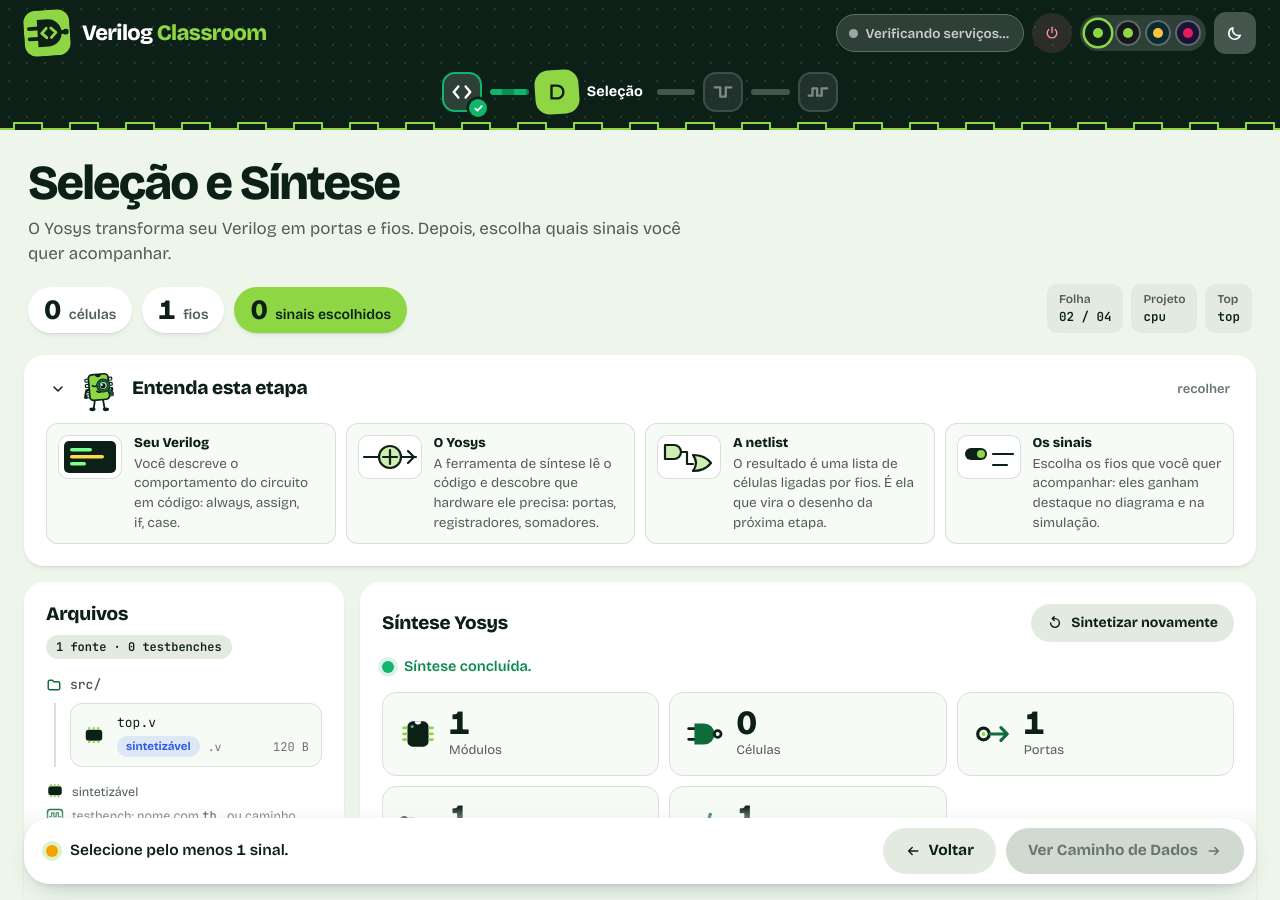
encerramento da sessão (#36) › falha de limpeza mantém a sessão e avisa
The image size is (1280, 900).
Click the button named "Encerrar sessão" at (1052, 33), box [1032,13,1072,53]
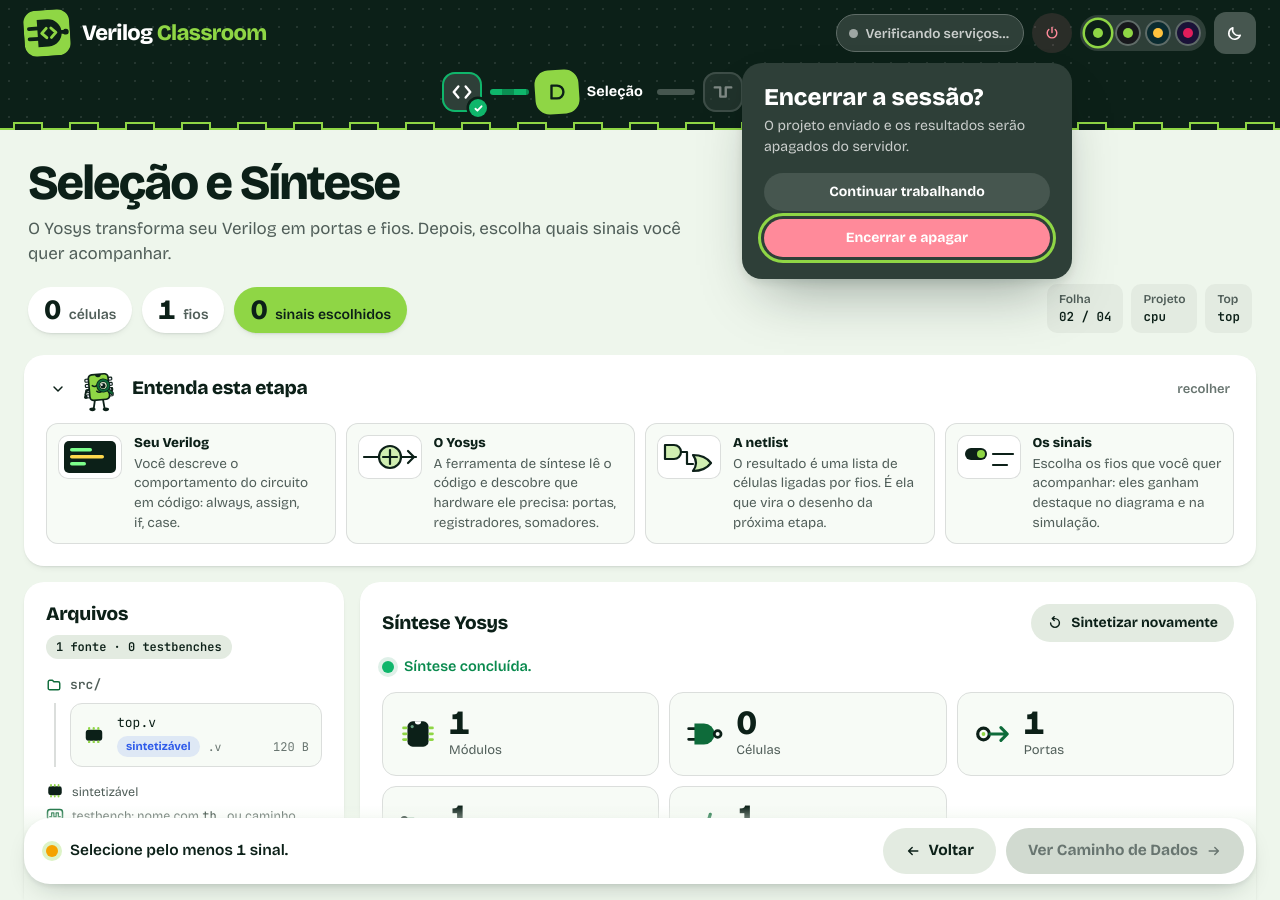
Click the button "Encerrar e apagar" at (907, 238), box [764,219,1050,257]
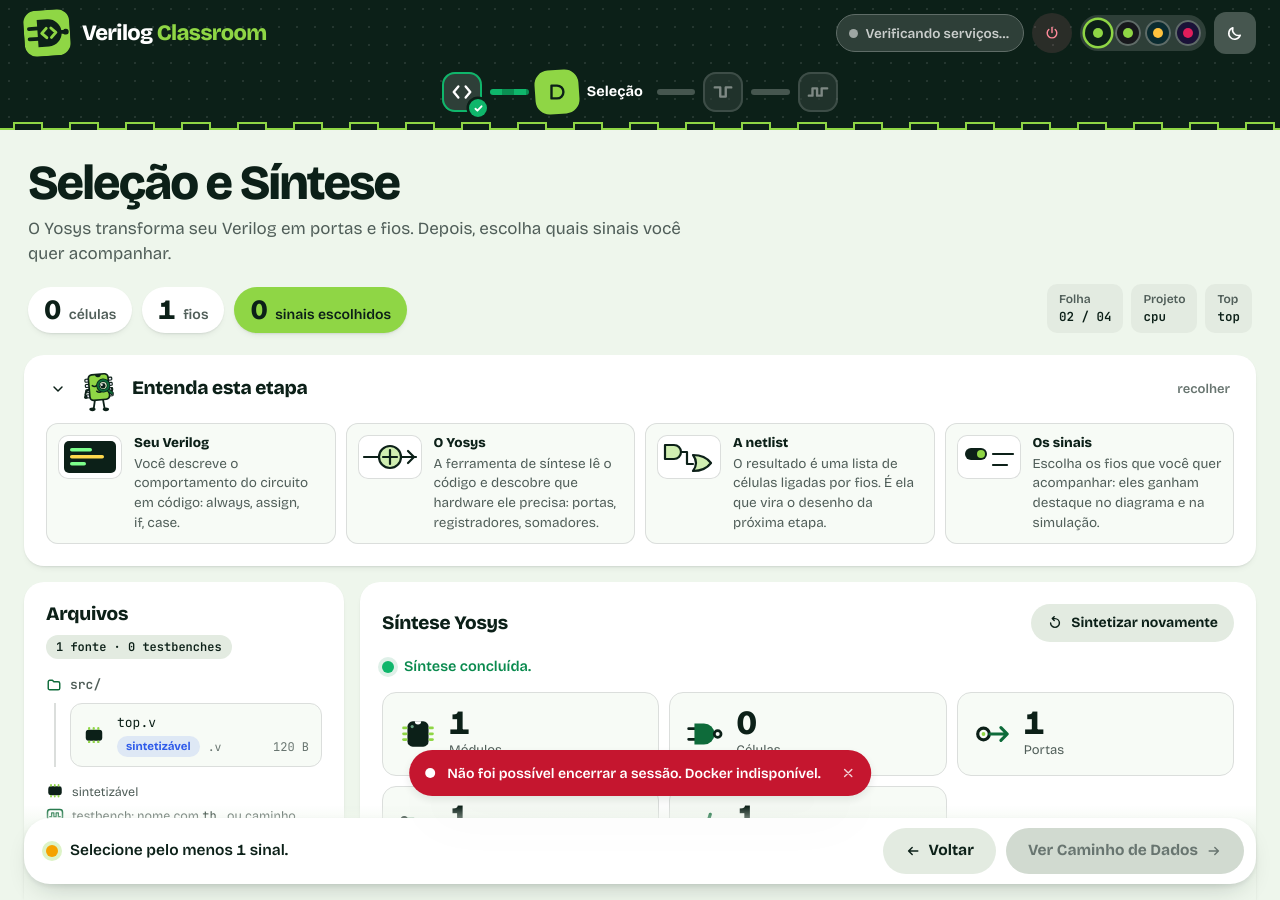
Expected: the heading "Seleção e Síntese" is shown, [28,154,399,212]
Expected: the text "Não foi possível encerrar a sessão. Docker indisponível." is shown, [447,762,821,784]
Click the button named "Encerrar sessão" at (1052, 33), box [1032,13,1072,53]
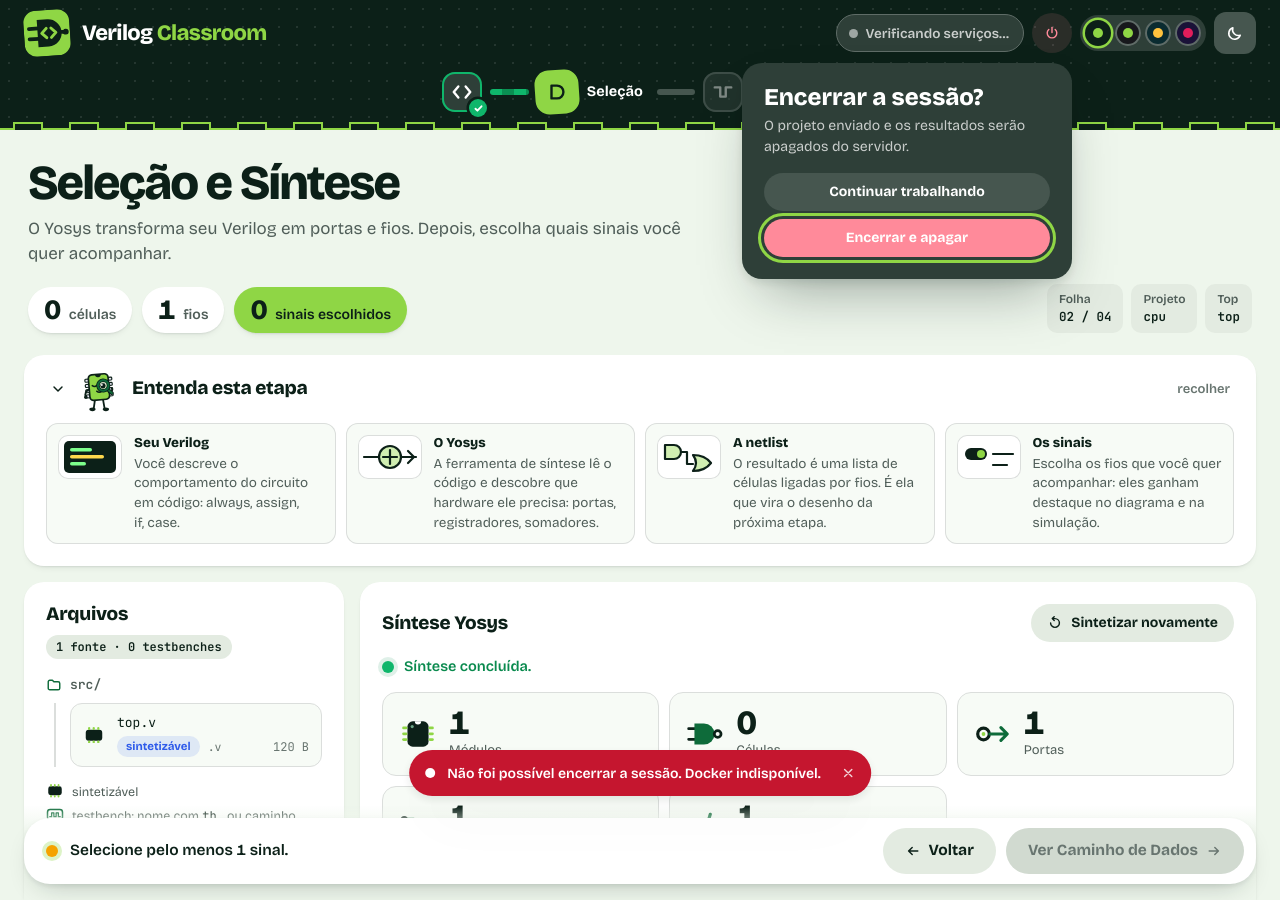
Click the button "Encerrar e apagar" at (907, 238), box [764,219,1050,257]
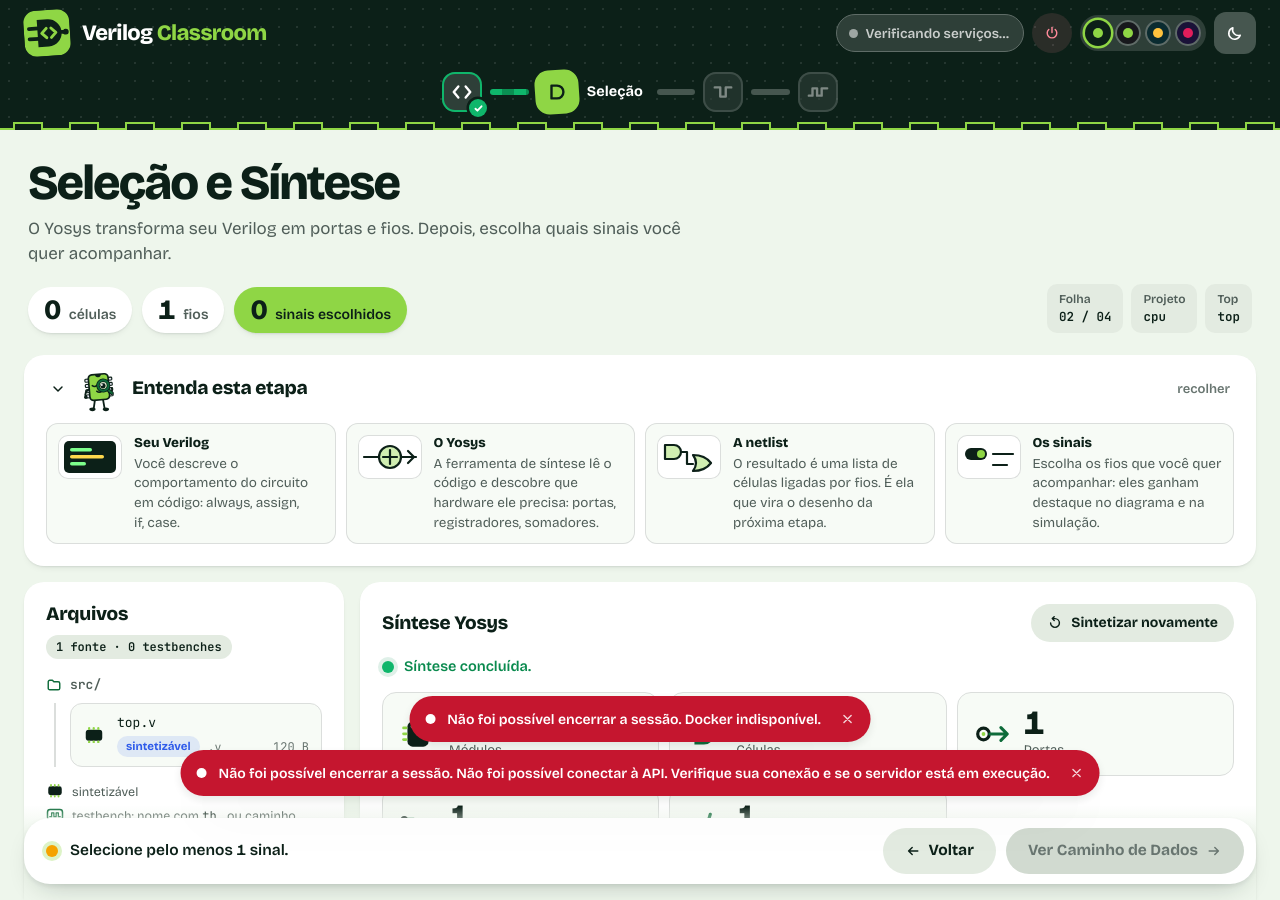
Expected: the text "Não foi possível conectar" is shown, [218,764,1049,782]
